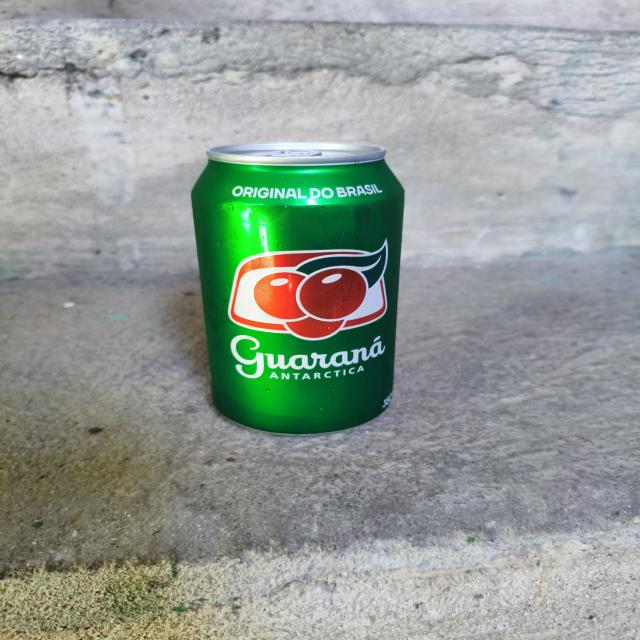Guarana: (176, 125, 423, 438)
